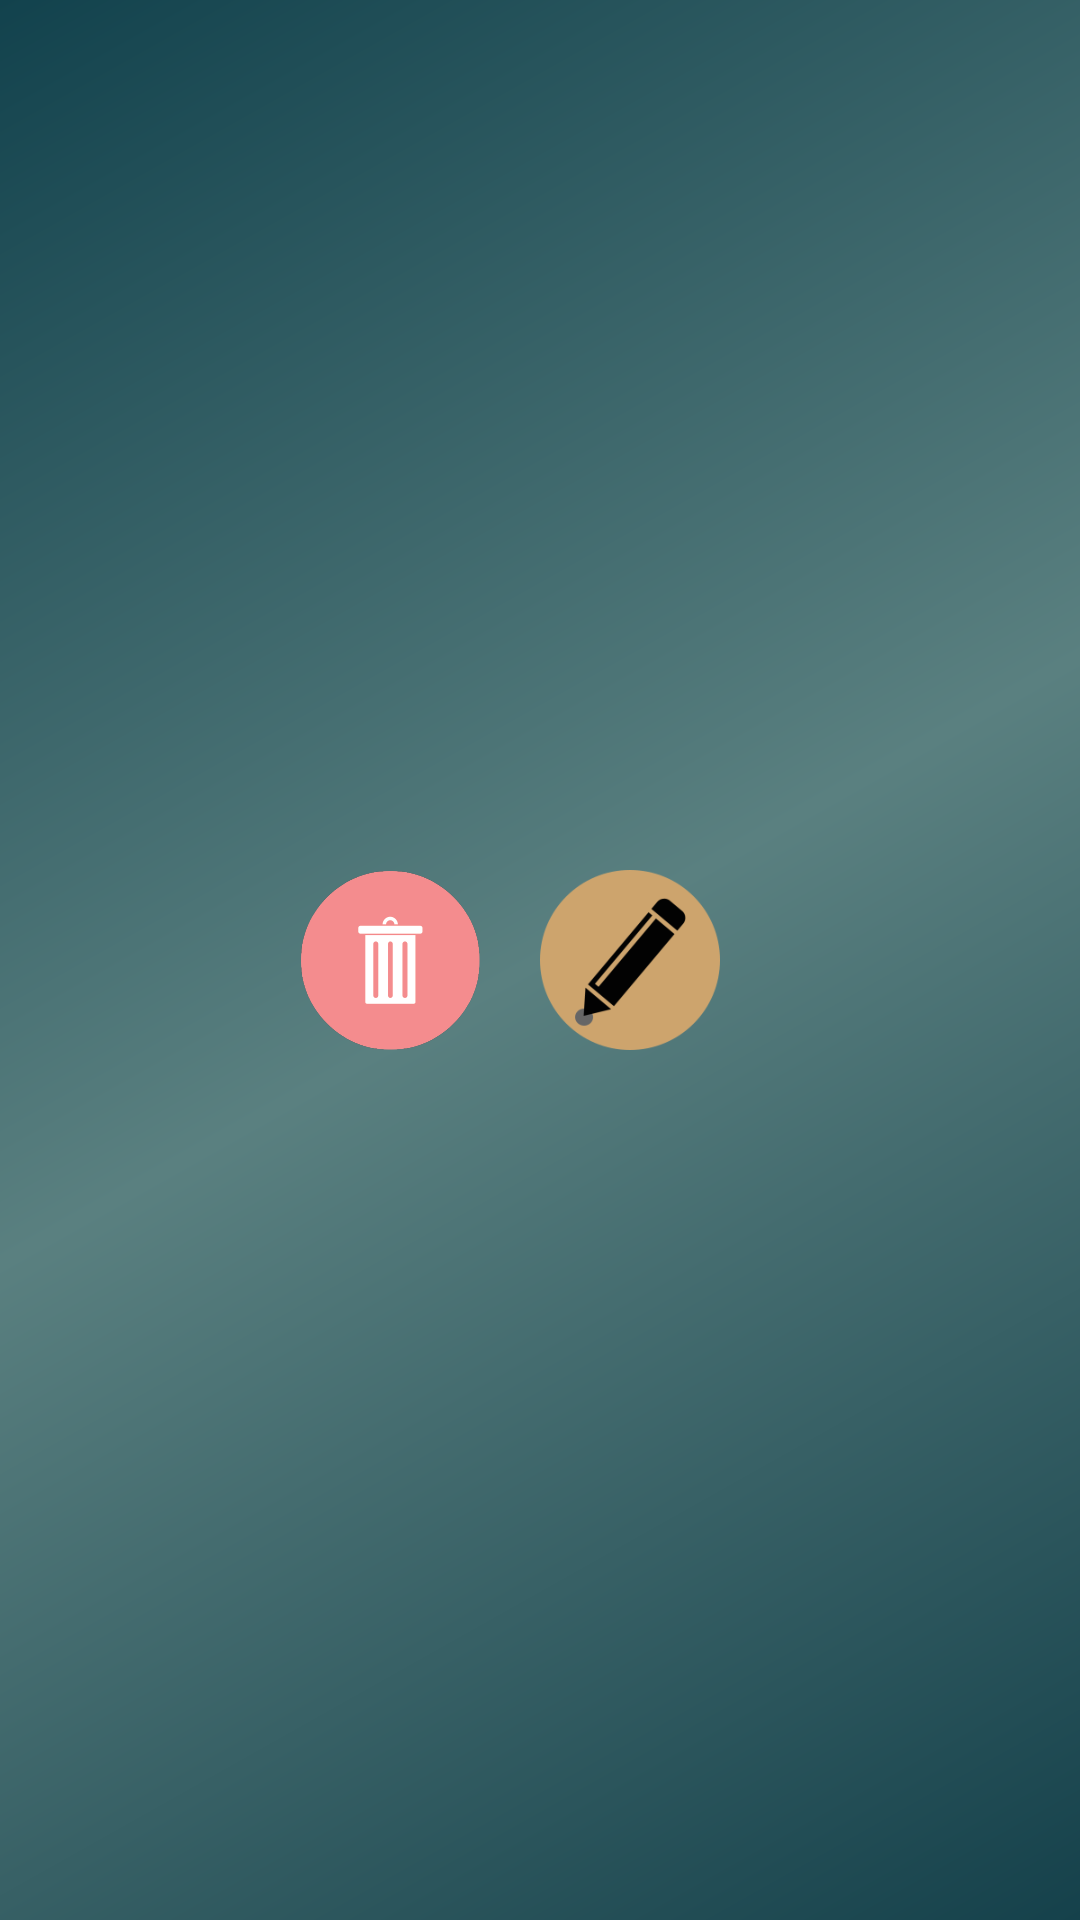

Where to tap for icons on this 1080w x 1920h app screen, as (x,y):
delete: (390,960)
